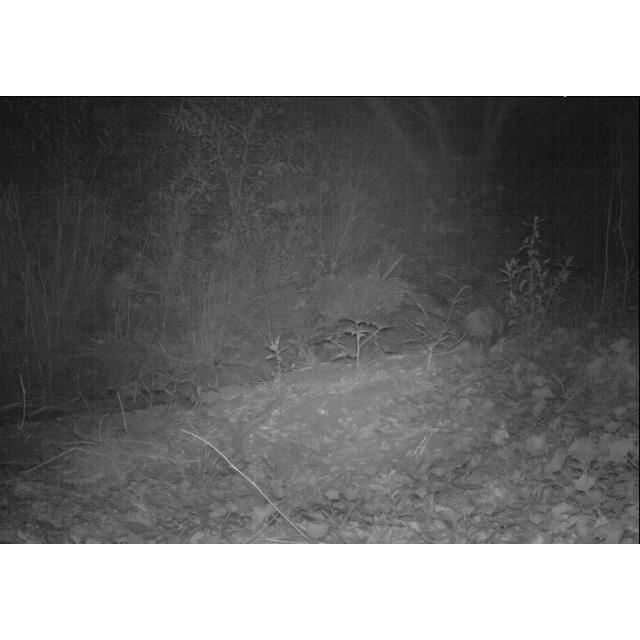animals: (452, 304, 522, 354)
